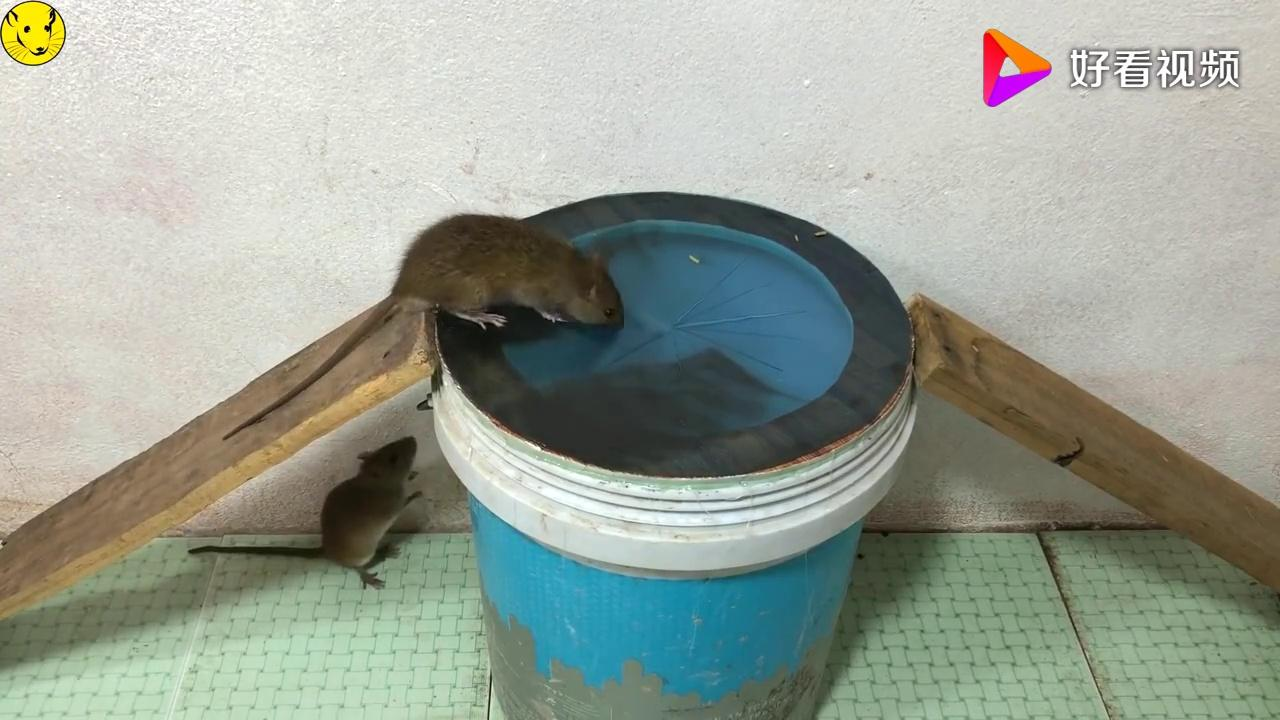rat: (355, 199, 642, 354), (284, 426, 430, 593)
